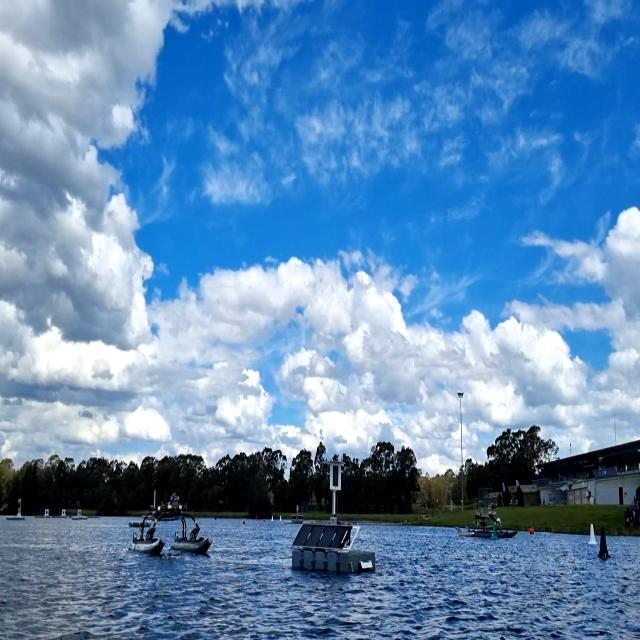led: (330, 464, 340, 489)
